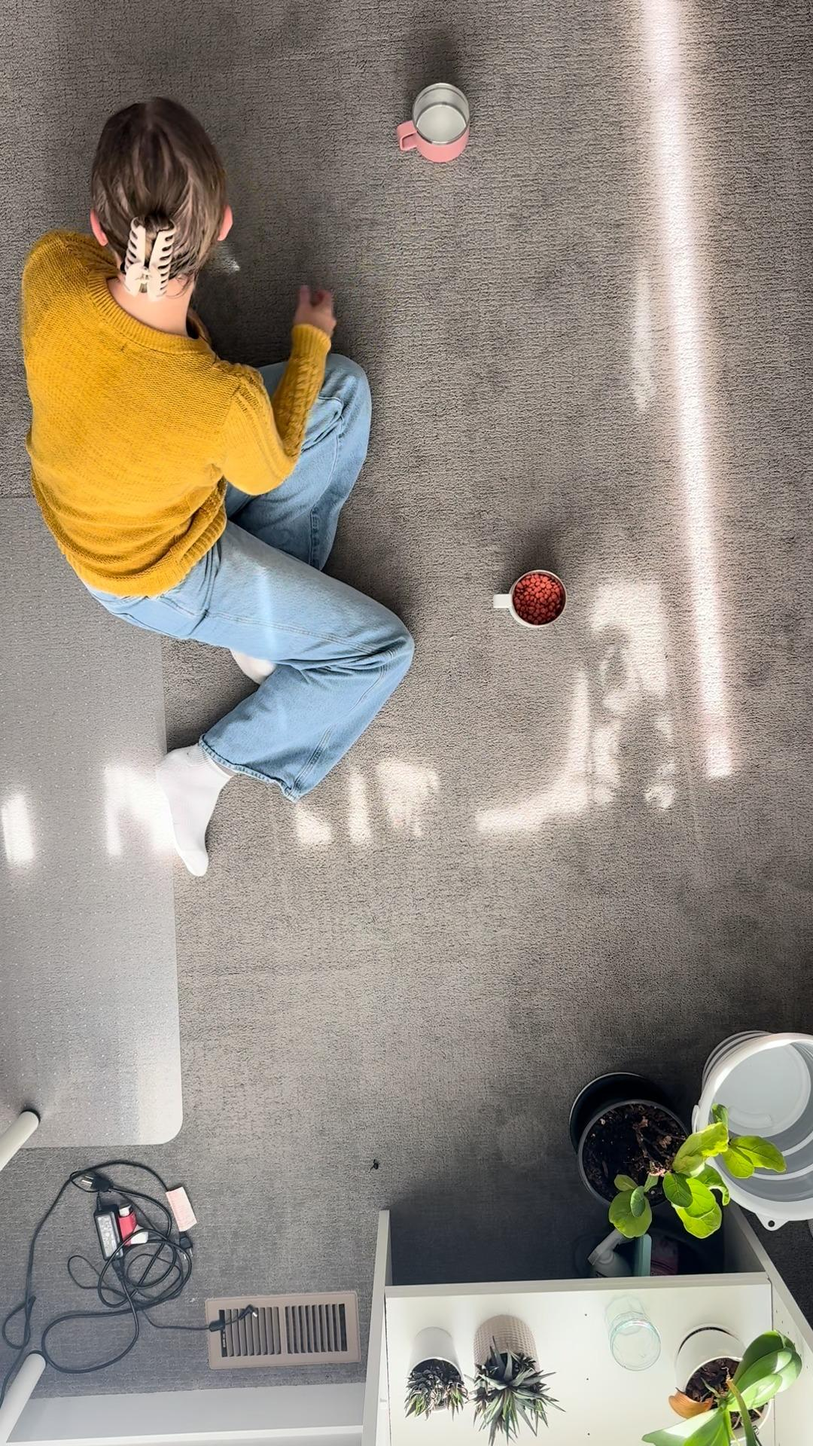IBC: (391, 75, 476, 172), (487, 547, 572, 640)
